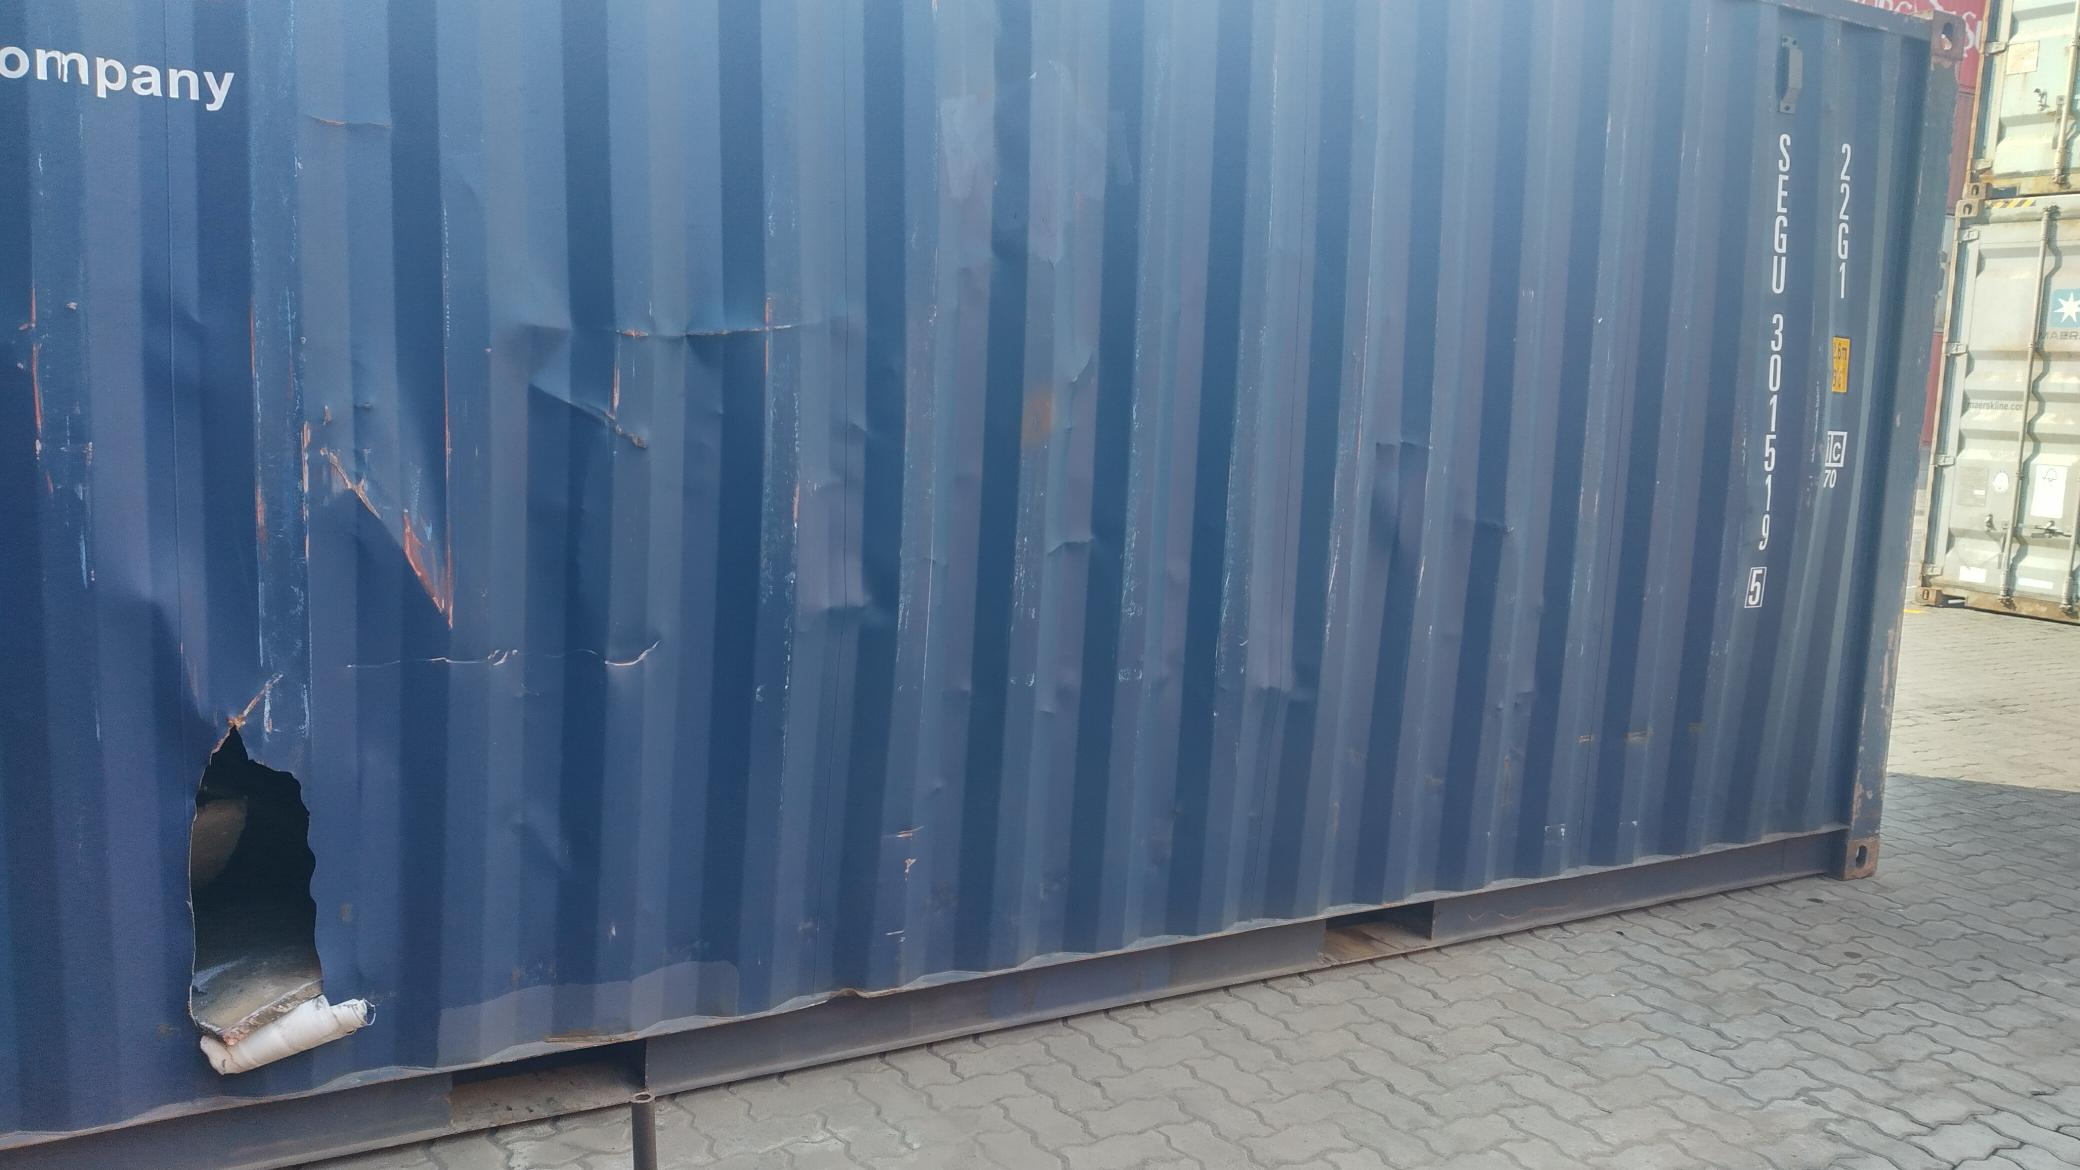cut: (66, 624, 446, 1094)
dented: (521, 281, 884, 449), (303, 409, 469, 597), (90, 541, 247, 700)
